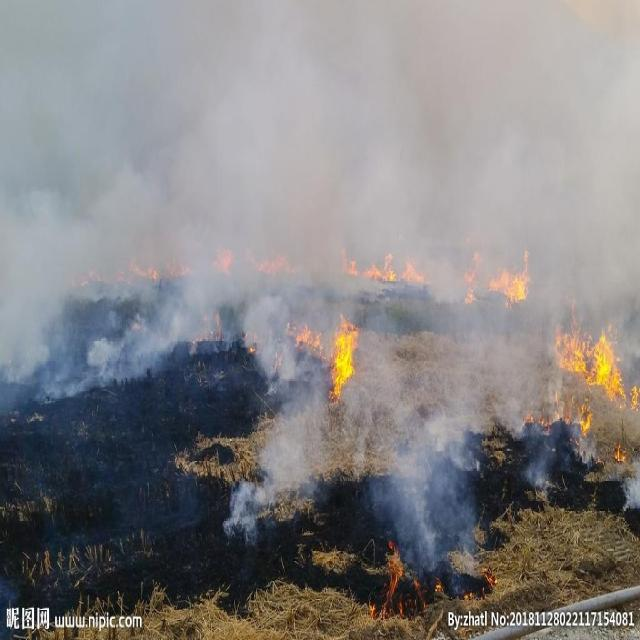Fire: (525, 319, 640, 461), (276, 310, 358, 400), (362, 538, 443, 620), (339, 233, 429, 284), (489, 248, 534, 304), (463, 566, 498, 602), (463, 243, 480, 304)
Smoke: (0, 1, 640, 240), (2, 241, 245, 398), (358, 288, 560, 422), (342, 406, 492, 552), (225, 408, 338, 553), (540, 245, 637, 331), (248, 245, 344, 319), (516, 442, 568, 501), (430, 242, 466, 306), (246, 325, 278, 393), (619, 464, 640, 514)
